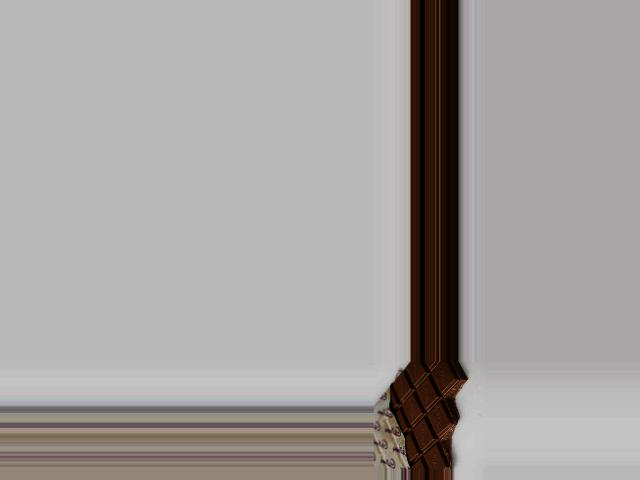chocolate: (374, 362, 459, 469)
